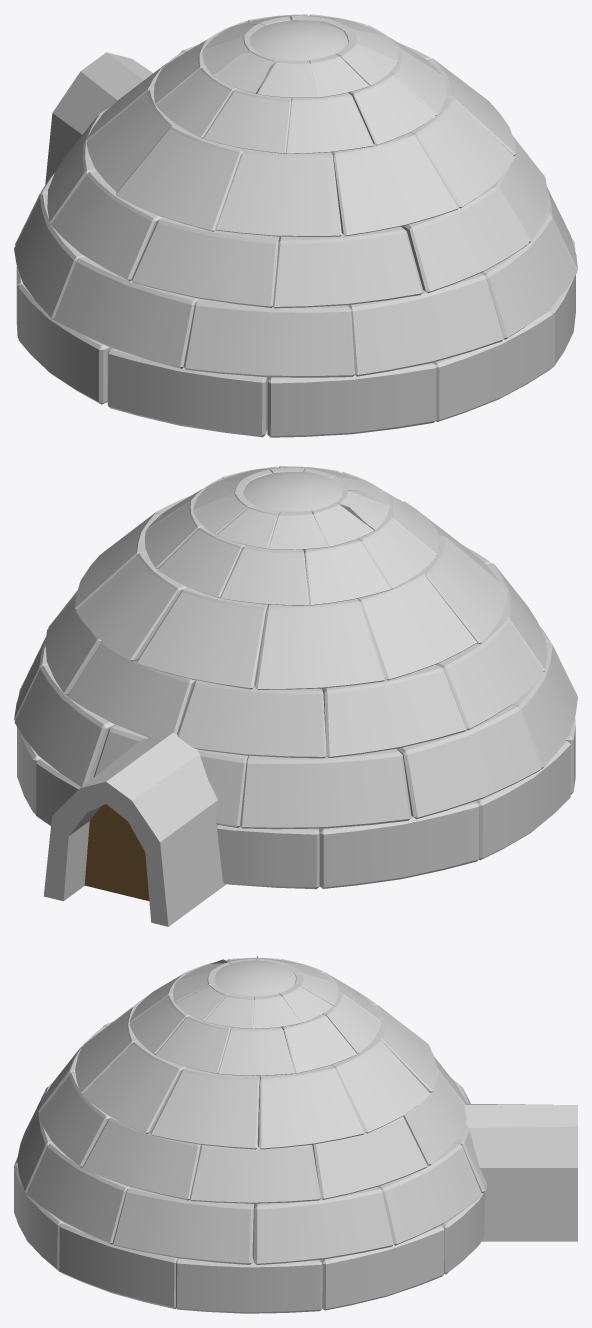
Rendered from igloo.fbx.
3 renders of one model, top to bottom at view 1: azimuth 30°, elevation 25°; view 2: azimuth 150°, elevation 25°; view 3: azimuth 270°, elevation 25°, orthographic. The views are drawn at different scales.
Parts seen in each view (by area): view 1: pCube2; view 2: pCube2; view 3: pCube2.
Part boxes in pixels (x1,y1,x2,y2): pCube2: (14,14,577,437); pCube2: (14,466,577,926); pCube2: (14,955,577,1313).
Bounding box in the file's own units: 99.44 × 55.47 × 116.
